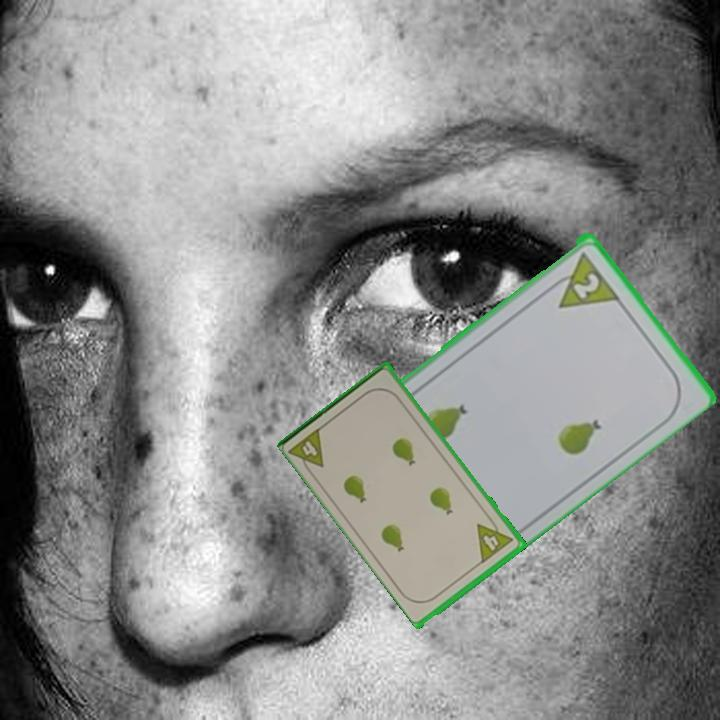2p: (543, 246, 621, 311)
4p: (473, 513, 517, 565), (286, 424, 327, 478)
